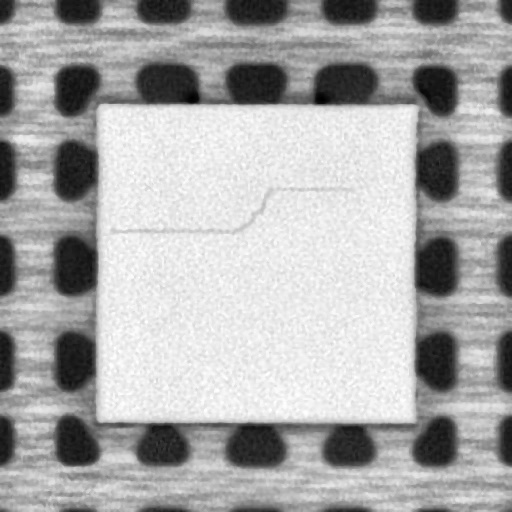DIE_CRACK: (106, 180, 354, 238)
